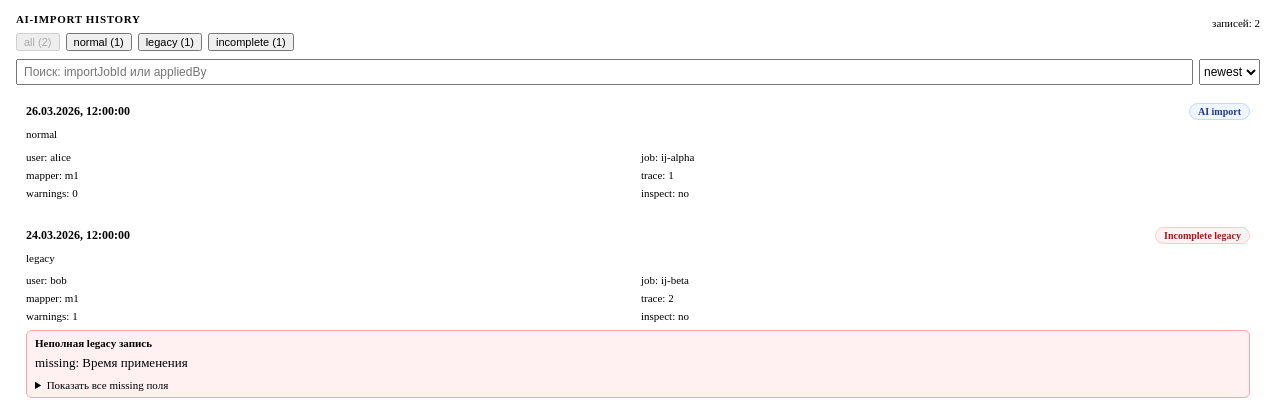
Test: ImportApplyHistoryPanel container › changes rendered list by filter and search
Expected: the text "job: ij-alpha" is shown, [641,150,694,162]
Expected: the text "job: ij-beta" is shown, [641,274,689,286]
Click the button "normal (1)" at (99, 42), box [66,33,132,51]
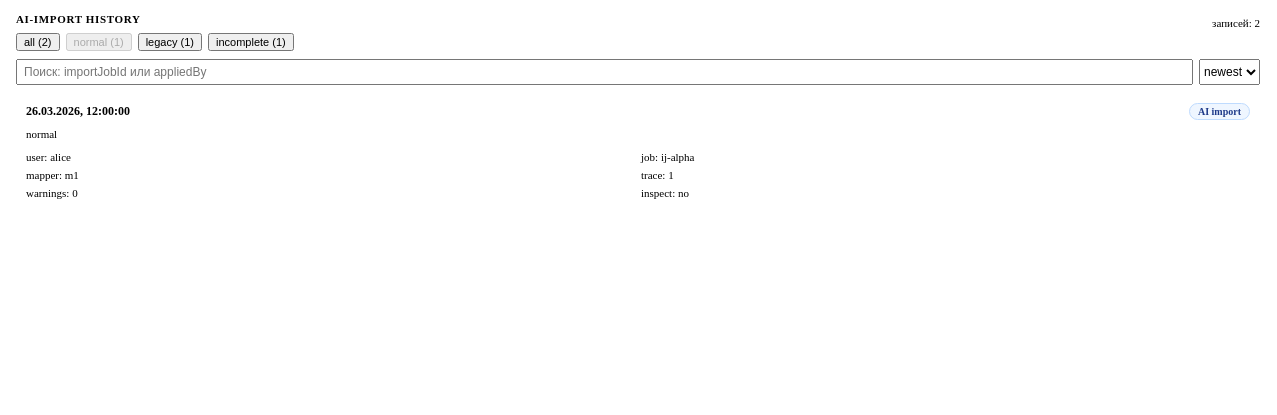
Expected: the text "job: ij-alpha" is shown, [641,150,694,162]
Result: the text "job: ij-beta" is gone
Type "bob" into the field with placeholder "Поиск: importJobId или appliedBy" at (604, 72), box [16,59,1193,85]
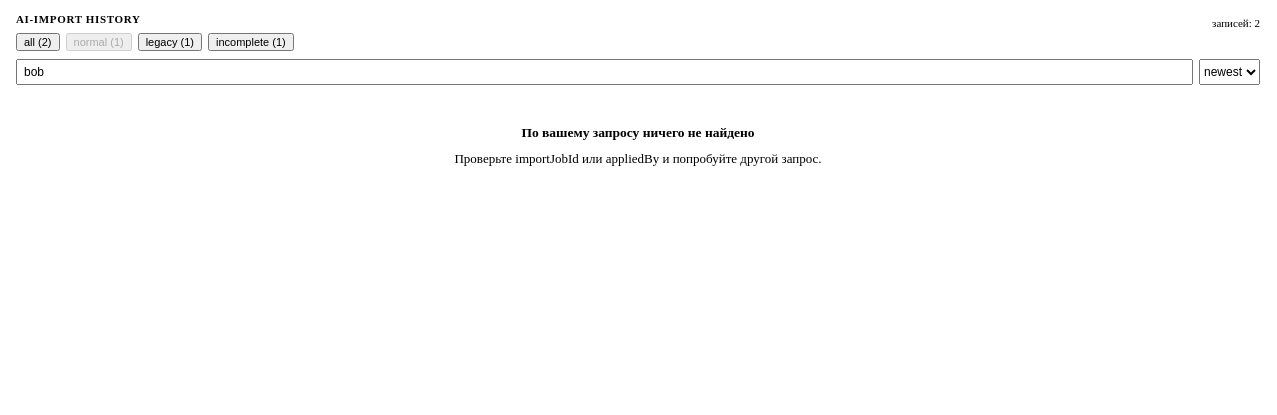
Result: the text "По вашему запросу ничего не найдено" is shown at [521,125,755,140]
